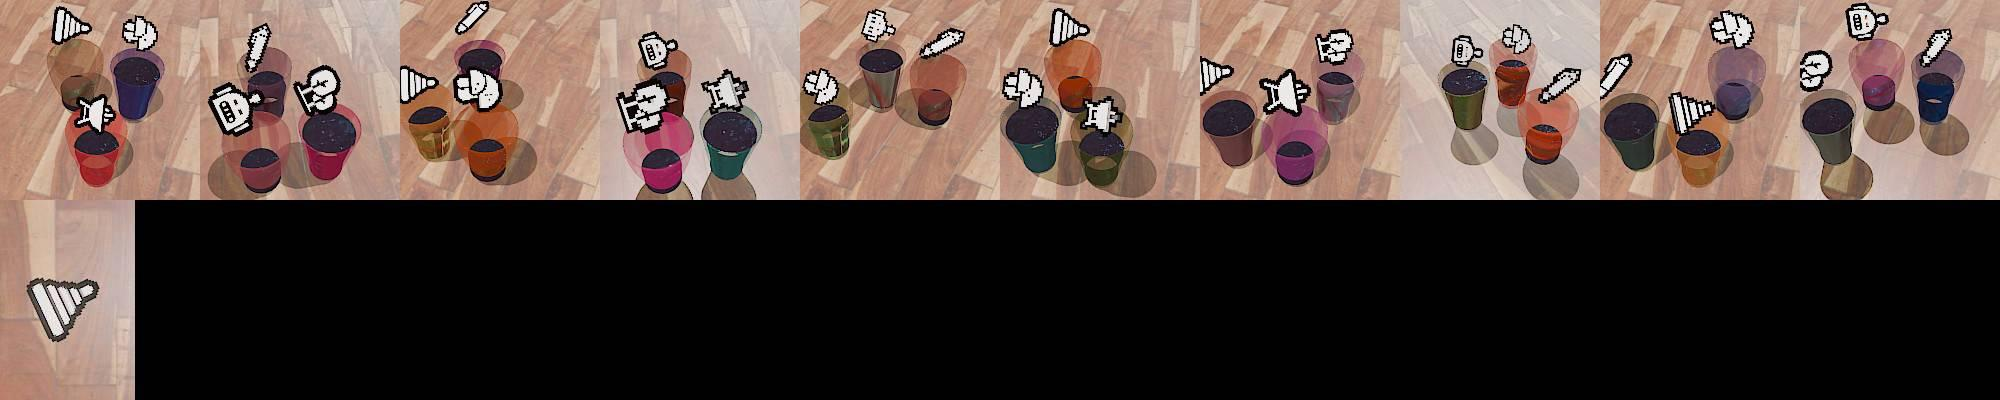icon: (26, 276, 99, 341), (616, 82, 672, 134), (208, 83, 256, 138), (1261, 68, 1314, 117), (292, 64, 342, 115), (454, 64, 503, 112), (703, 69, 750, 115), (1668, 90, 1717, 135), (1708, 9, 1755, 50), (73, 93, 116, 135), (1079, 94, 1124, 135), (1537, 65, 1583, 104), (1844, 3, 1890, 42), (1001, 66, 1043, 108), (1048, 6, 1089, 48), (51, 5, 93, 46), (636, 31, 679, 70), (1598, 52, 1634, 98), (917, 27, 964, 61), (399, 65, 440, 104), (242, 22, 273, 73), (1315, 27, 1355, 65), (802, 68, 841, 106), (1917, 27, 1954, 66), (1797, 50, 1833, 90), (121, 15, 158, 52), (1200, 56, 1235, 96), (860, 9, 898, 42), (1452, 33, 1486, 69), (455, 1, 490, 36), (1500, 23, 1533, 55)
